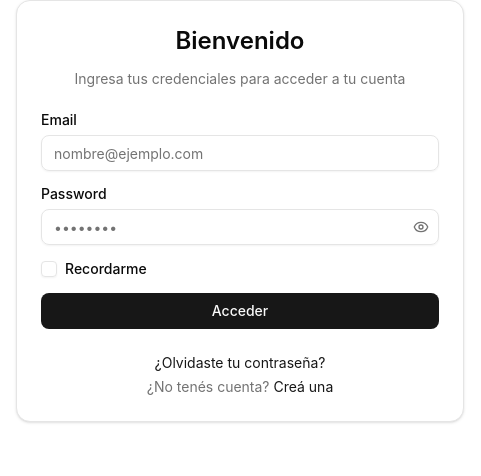
LoginForm › should show backend error message on failure
This screenshot has width=481, height=476.
Type "wrong@example.com" into the field labelled "Email" at (240, 153), box [41, 135, 439, 171]
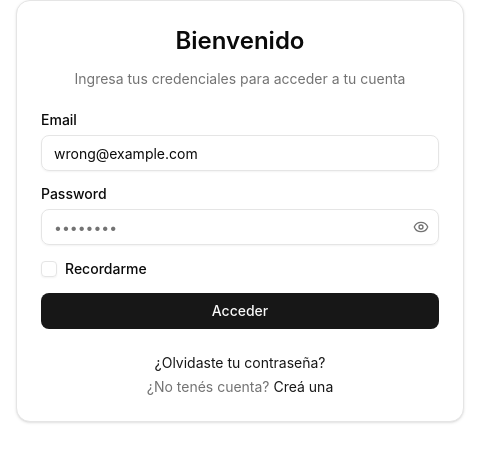
Type "wrongpass" into the password field labelled "Password" at (240, 227), box [41, 209, 439, 245]
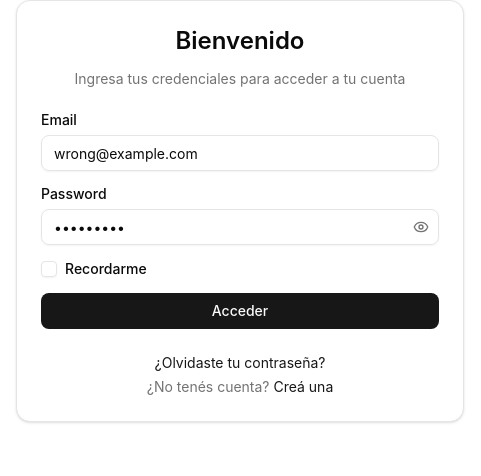
Click the button "Acceder" at (240, 311), box [41, 293, 439, 329]
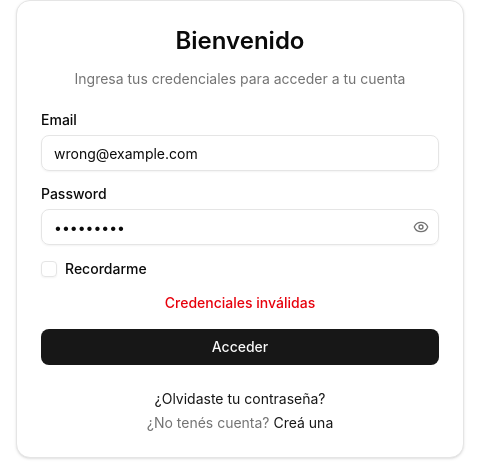
expect the text "Credenciales inválidas" is shown: met, box [165, 294, 315, 311]
